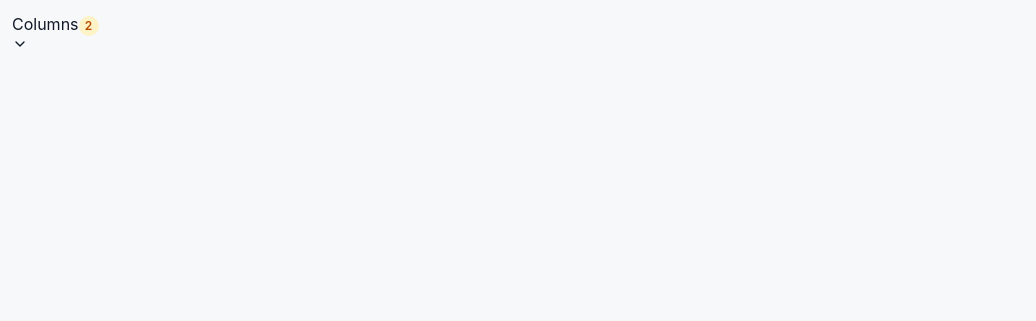
ColumnChooser › reset functionality › enables reset button when some columns are hidden
Click the button "Columns 2". click: (55, 32)
box: [12,12,98,52]
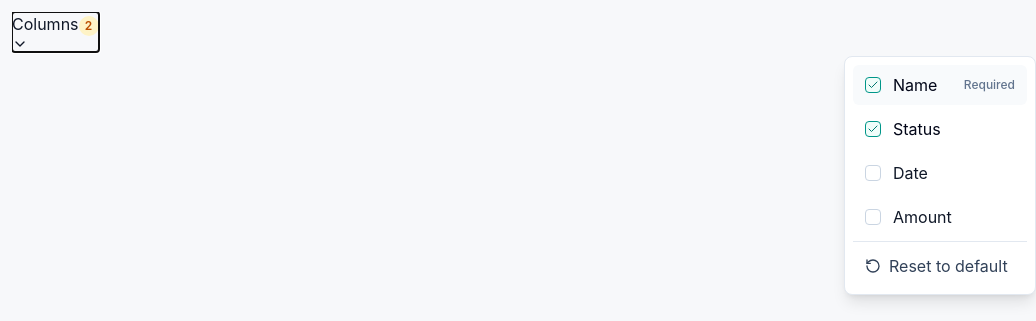
Check: the menu item "Reset to default" is enabled, box [853,246,1027,286]
